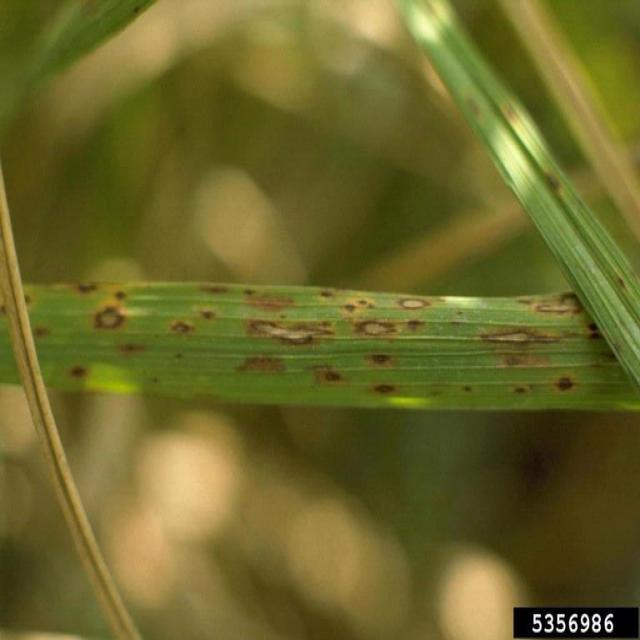Brown spot: (245, 314, 340, 345), (473, 330, 566, 346), (237, 353, 290, 381), (262, 282, 308, 313), (519, 292, 582, 314), (85, 300, 127, 331), (498, 352, 553, 375), (352, 318, 400, 344), (304, 360, 347, 389), (501, 91, 527, 132), (362, 346, 400, 368), (553, 372, 583, 399), (396, 291, 434, 311), (367, 376, 400, 399), (462, 88, 483, 123), (62, 276, 104, 293), (118, 336, 148, 359), (542, 167, 562, 194), (509, 381, 535, 400), (408, 316, 430, 338), (66, 360, 89, 381), (173, 316, 197, 336), (204, 281, 235, 296), (142, 368, 165, 388), (460, 380, 480, 400), (32, 322, 56, 338), (587, 322, 607, 340), (614, 267, 628, 291), (242, 285, 260, 302), (359, 293, 376, 311), (202, 305, 218, 323), (316, 287, 339, 299), (115, 286, 134, 300), (0, 305, 10, 327), (168, 350, 187, 360), (25, 290, 36, 307), (344, 304, 358, 314)
